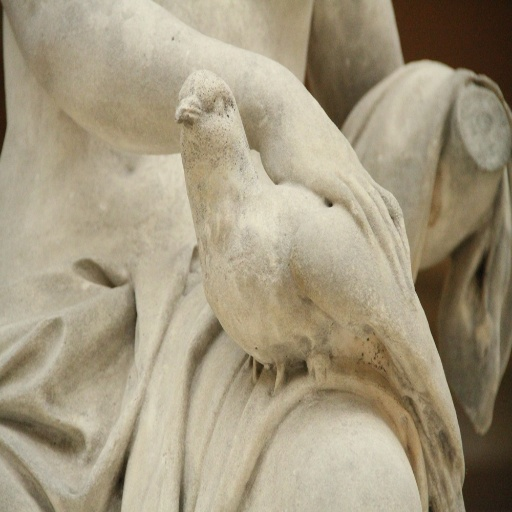hand: (254, 85, 409, 287)
